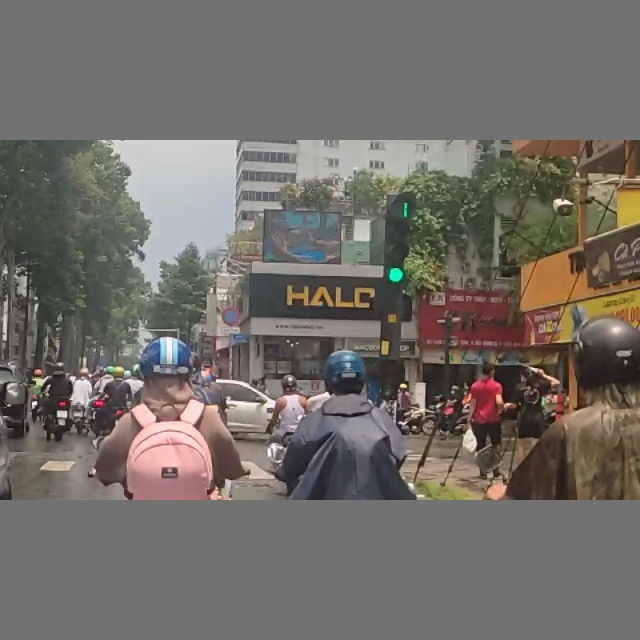P.131a: (221, 305, 240, 326)
